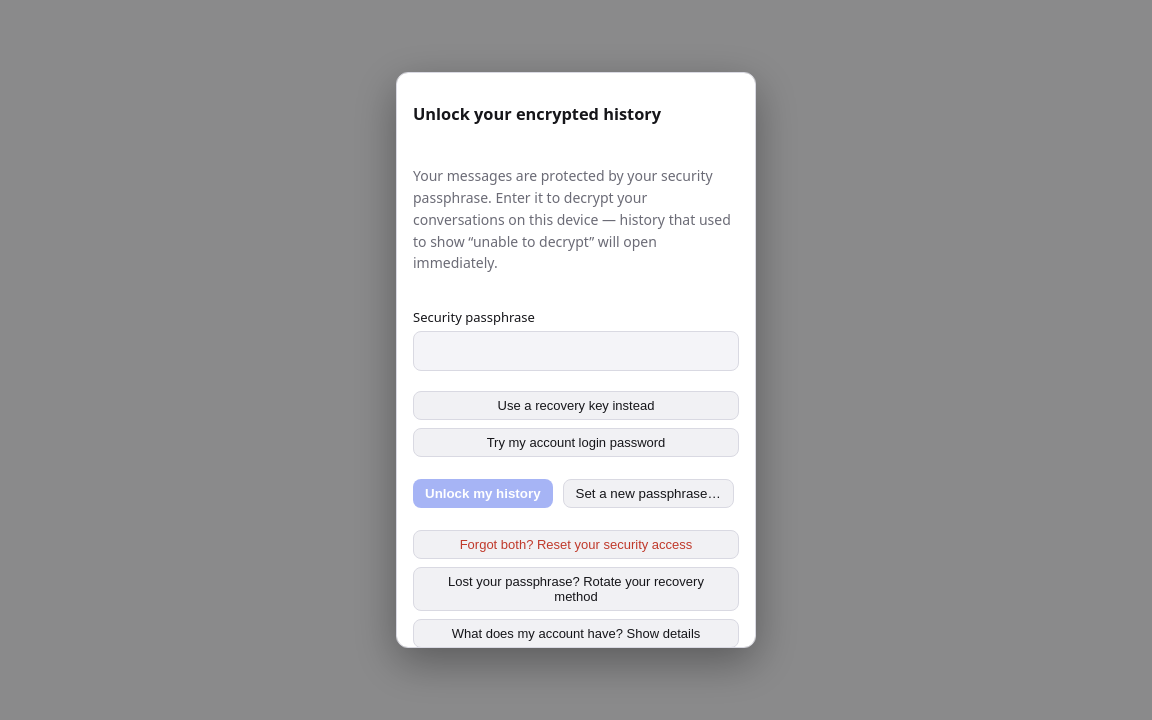
it: W21-HOTFIX gate routing after Sean's prod report (11-24) › recovery-key route renders a visible (unmasked) input plus format guidance
This screenshot has width=1152, height=720.
Check: the heading "Unlock your encrypted history" is shown, box [413, 103, 661, 125]
Click the button "Use a recovery key instead" at (576, 406), box [413, 391, 739, 420]
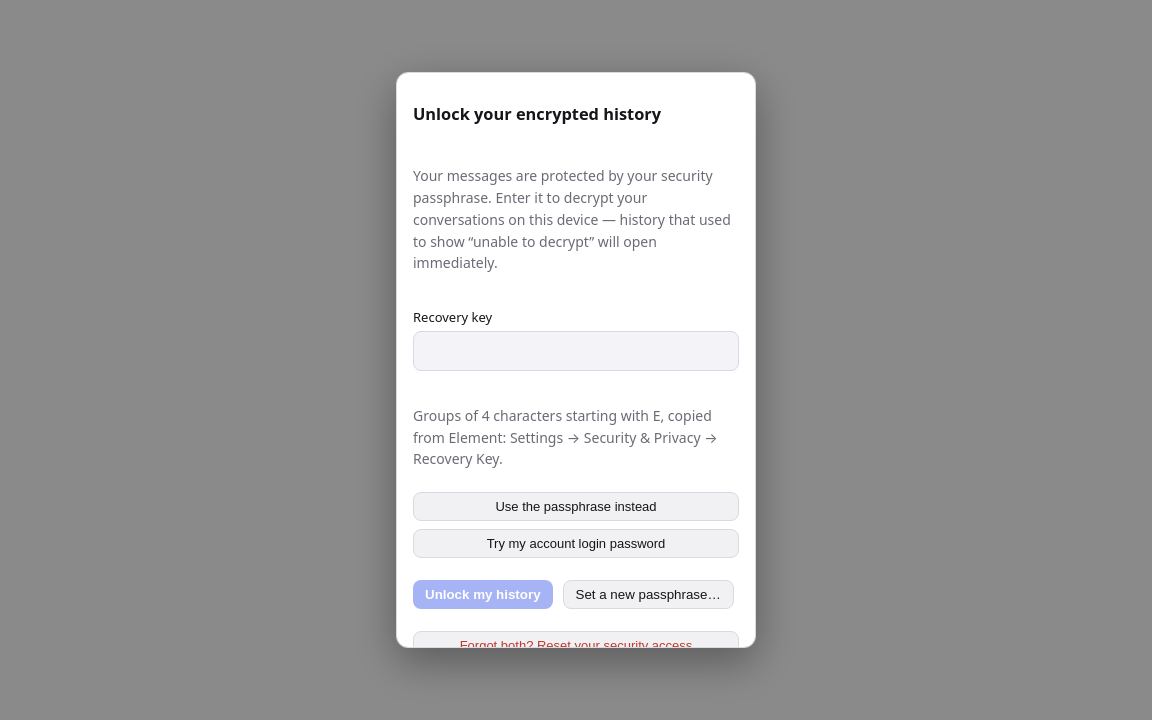
Check: the dialog with class "gate-dialog" shows "Groups of 4 characters", box [413, 406, 718, 468]
